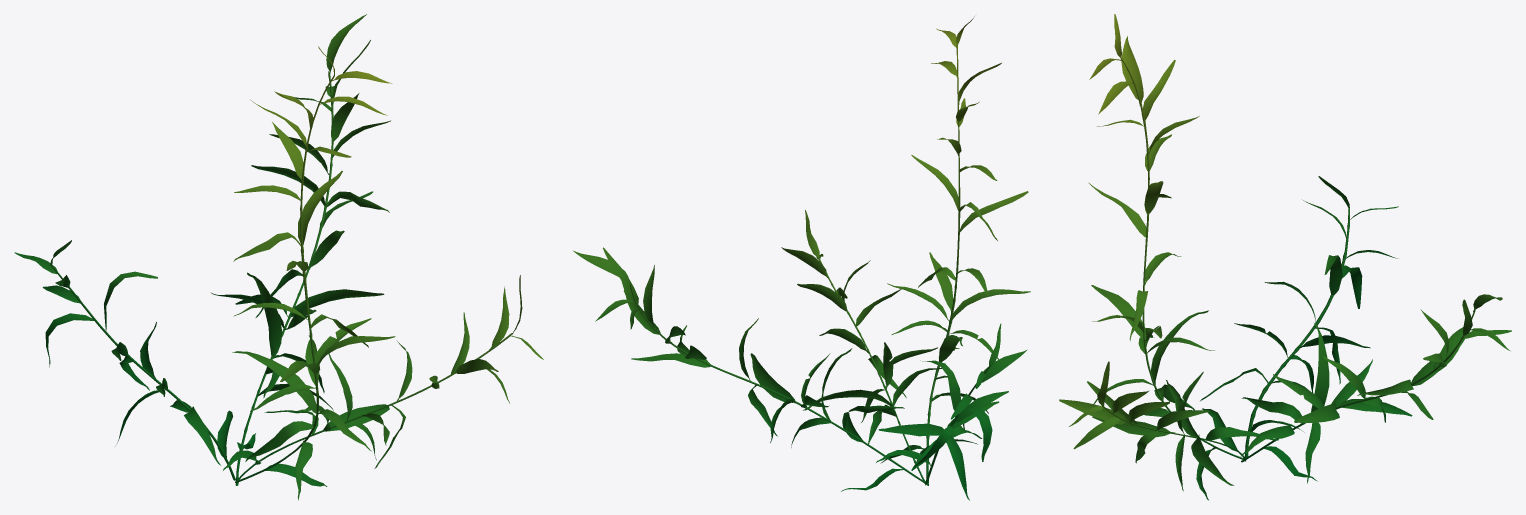
The model's file is shrub_02_3.glb.
3 renders of one model, left to right at view 1: azimuth 30°, elevation 25°; view 2: azimuth 150°, elevation 25°; view 3: azimuth 270°, elevation 25°, orthographic. The views are drawn at different scales.
Parts seen in each view (by area): view 1: shrub_02_d; view 2: shrub_02_d; view 3: shrub_02_d.
Part boxes in pixels (x1,y1,x2,y2): shrub_02_d: (14,14,543,500); shrub_02_d: (573,16,1030,500); shrub_02_d: (1059,14,1511,500).
Size of the model in its own units: 1.08 by 1.23 by 1.1.
